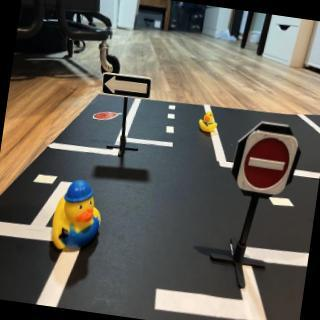duck_regular: (197, 109, 222, 137)
duck_specialty: (47, 178, 108, 260)
sign_noentry: (235, 130, 303, 200)
sign_oneway_left: (102, 72, 152, 101)
